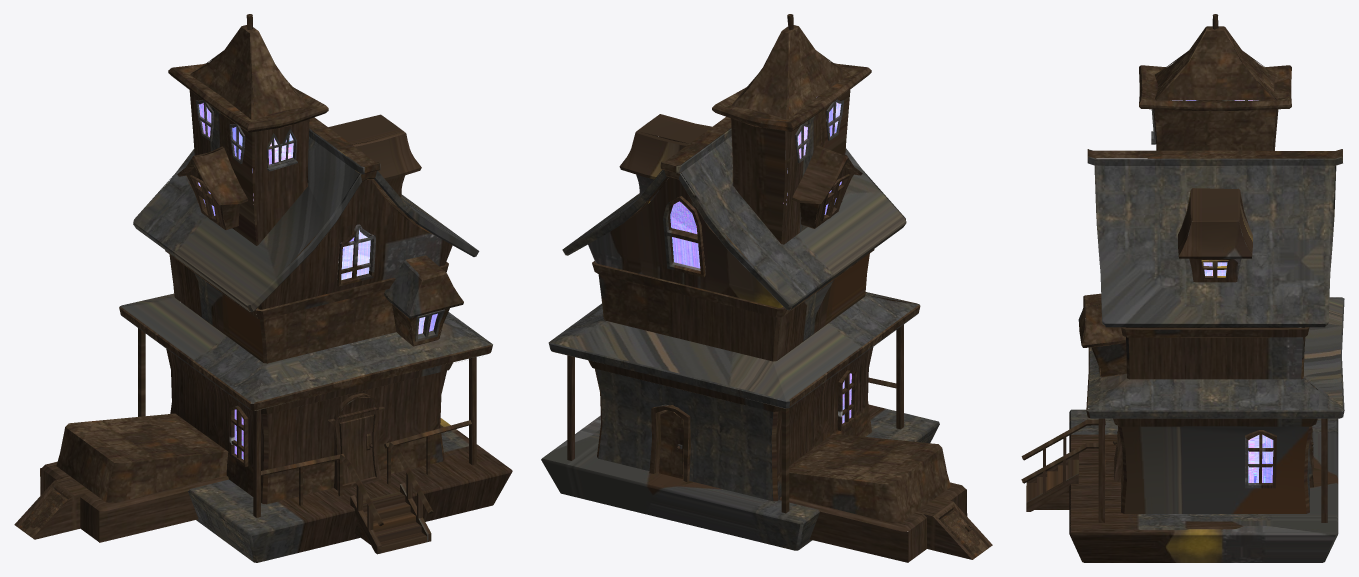
File: house 3.fbx
The picture shows the model from 3 angles, left to right: view 1: azimuth 30°, elevation 25°; view 2: azimuth 150°, elevation 25°; view 3: azimuth 270°, elevation 25°; orthographic projection. The views are drawn at different scales.
Visible parts, largest first — view 1: Box001_House Wood_0, Box001_House Glass_0; view 2: Box001_House Wood_0, Box001_House Glass_0; view 3: Box001_House Wood_0, Box001_House Glass_0.
Part boxes in pixels (x1=…): Box001_House Wood_0: x1=14, y1=14, x2=512, y2=562; Box001_House Glass_0: x1=198, y1=103, x2=437, y2=459; Box001_House Wood_0: x1=541, y1=14, x2=992, y2=562; Box001_House Glass_0: x1=670, y1=97, x2=851, y2=423; Box001_House Wood_0: x1=1021, y1=14, x2=1344, y2=562; Box001_House Glass_0: x1=1172, y1=100, x2=1273, y2=482.
Bounding box in the file's own units: 61529 × 71233 × 44900.
